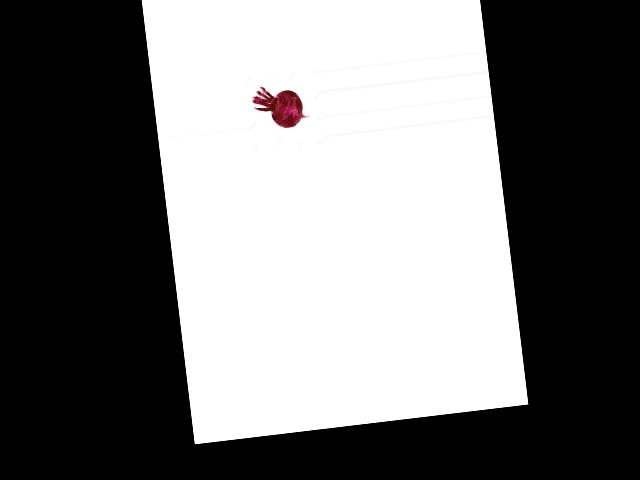beet: (251, 81, 311, 131)
